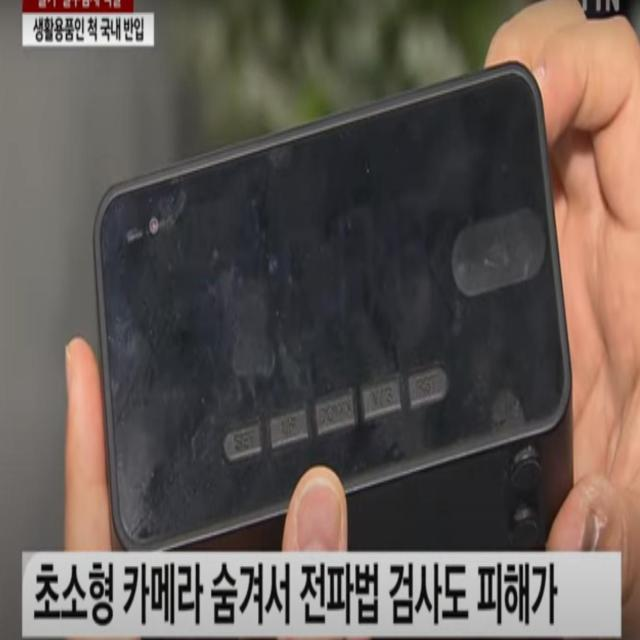hidden camera: (141, 199, 164, 247)
